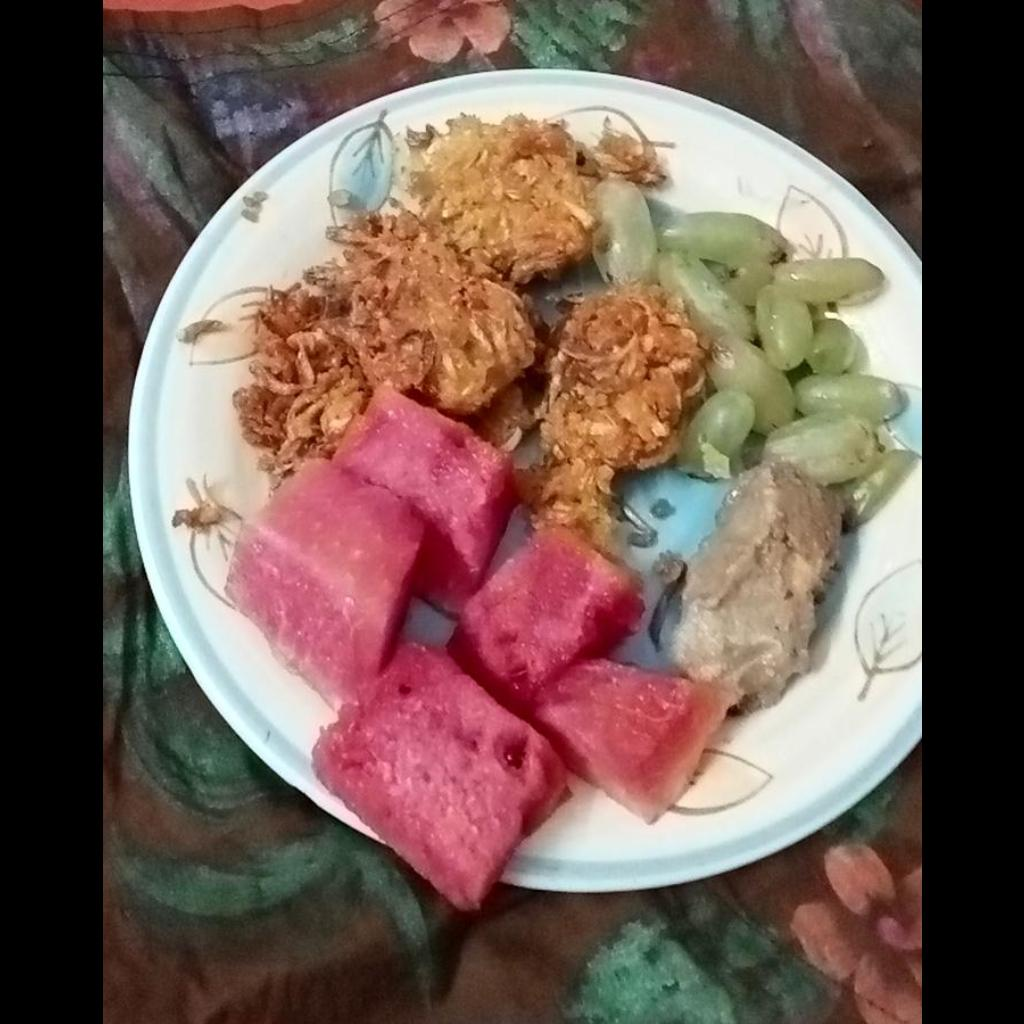grapes: (605, 183, 913, 525)
peyaju: (243, 119, 705, 519)
sweets: (666, 475, 836, 703)
watermelon: (230, 396, 734, 909)
